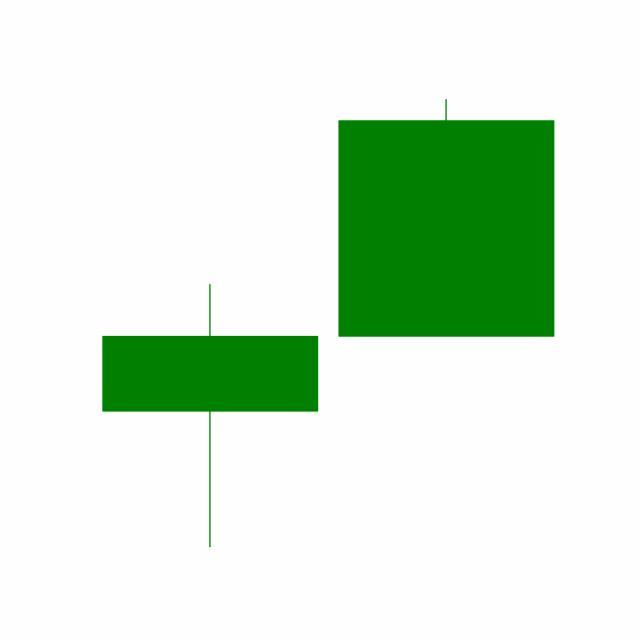Marubozu: (328, 96, 566, 339)
